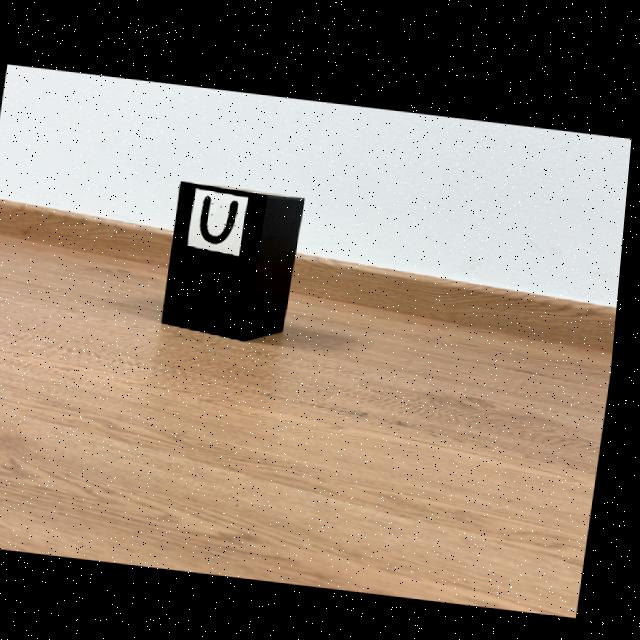U: (203, 193, 241, 240)
